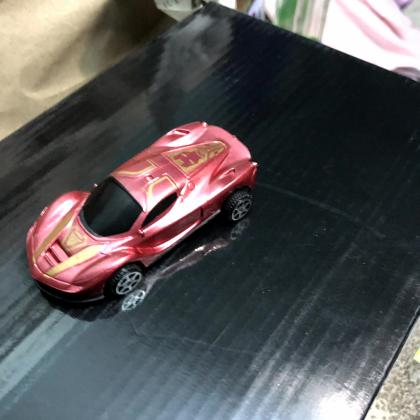Car: (25, 122, 258, 304)
